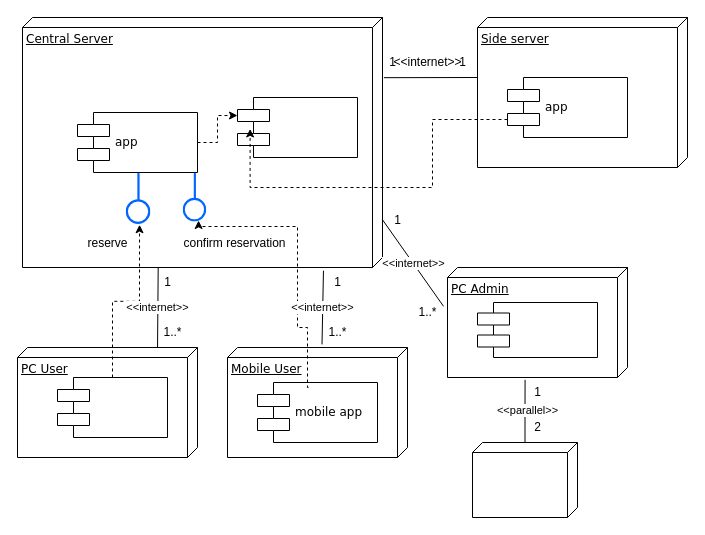
Image size: 705x535. Some labels were removed from this diagram. Each missing label, with the centre of its shape:
<<table>> database: the point at 297,127
browser: the point at 112,407
desktop app: the point at 537,330
Printer: the point at 525,480
